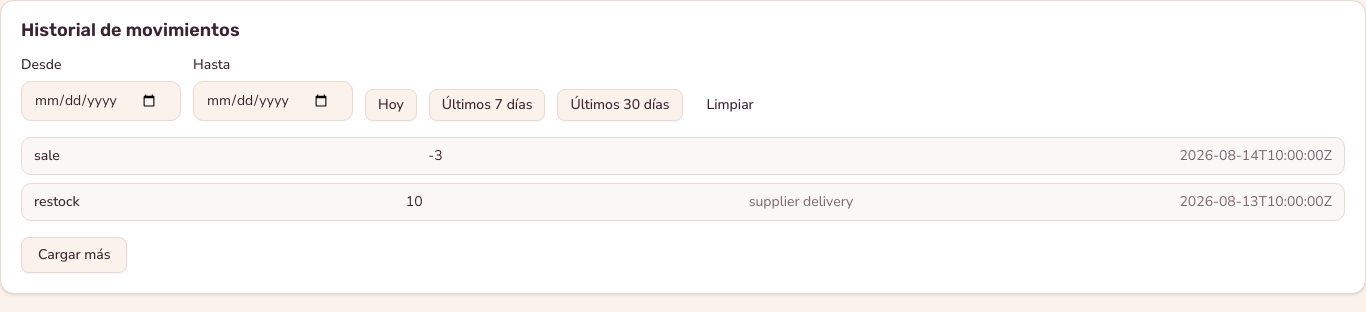
Scenario: StockHistory › appends the next page below existing rows without resetting the list on Load more
Click the button "Cargar más".
click(74, 255)  # box [21,237,127,273]
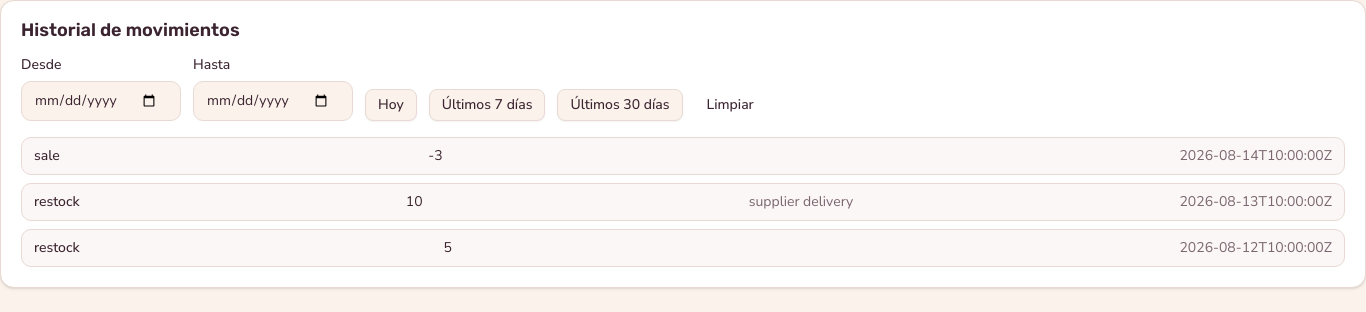
Expected: the list item "sale -3 2026-08-14T10:00:00Z" is shown, [21,137,1345,175]
Expected: the number of list items is 3, [21,137,1345,175]; [21,183,1345,221]; [21,229,1345,267]
Expected: the list item "restock 5 2026-08-12T10:00:00Z" is shown, [21,229,1345,267]
